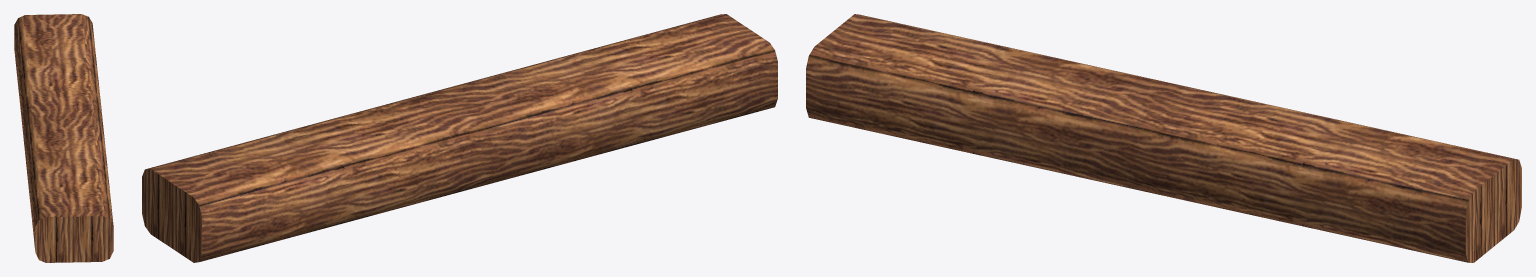
The model's file is OVERHILL_A_01_LINE224.obj.
The picture shows the model from 3 angles, left to right: view 1: azimuth 30°, elevation 25°; view 2: azimuth 150°, elevation 25°; view 3: azimuth 270°, elevation 25°; orthographic projection. The views are drawn at different scales.
Parts seen in each view (by area): view 1: Line224; view 2: Line224; view 3: Line224.
Part boxes in pixels (<box>): Line224: <box>14,14,113,262</box>; Line224: <box>142,14,777,262</box>; Line224: <box>806,14,1521,262</box>.
Size of the model in its own units: 270 by 46.88 by 428.
